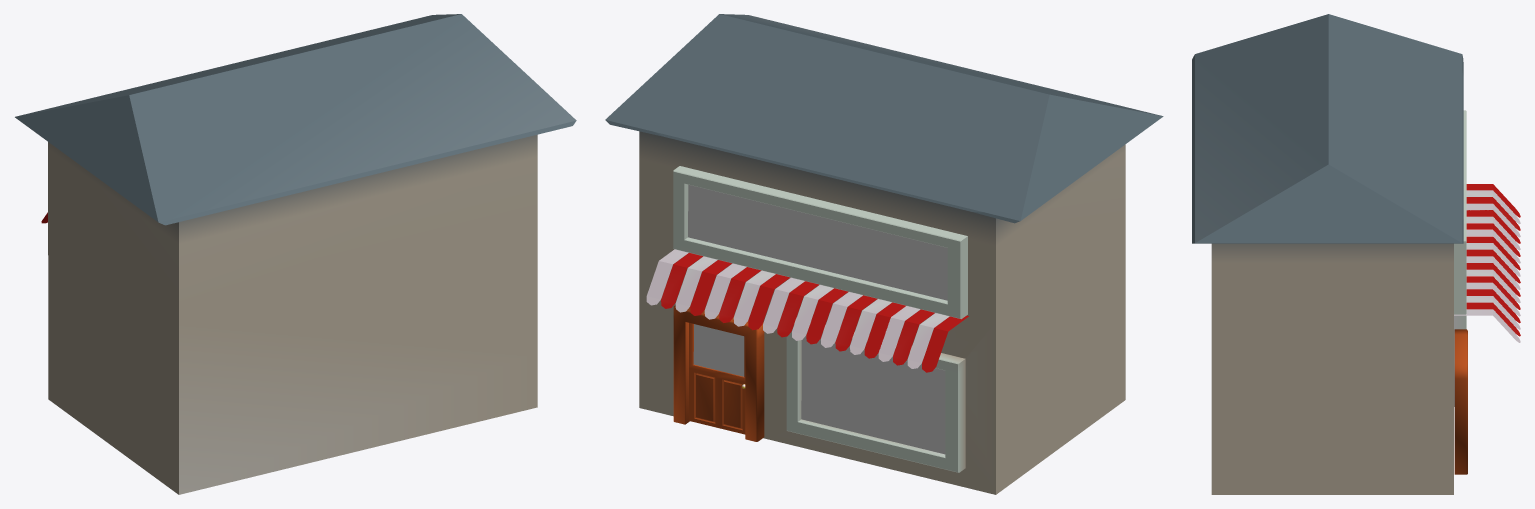
File: shop.fbx
3 views of the same model, side by side, from view 1: azimuth 30°, elevation 25°; view 2: azimuth 150°, elevation 25°; view 3: azimuth 270°, elevation 25° (orthographic). The views are drawn at different scales.
Parts seen in each view (by area): view 1: Cylinder.008; view 2: Cylinder.008, Plane.002, Sphere, Cube; view 3: Cylinder.008, Sphere.
Part boxes in pixels (box(x1,y1,x2,y2)): Cylinder.008: box(15, 14, 576, 494); Cylinder.008: box(605, 14, 1163, 494); Plane.002: box(688, 184, 947, 454); Sphere: box(673, 305, 764, 441); Cube: box(689, 323, 745, 434); Cylinder.008: box(1192, 14, 1520, 494); Sphere: box(1454, 329, 1467, 474).
Size of the model in its own units: 846 by 677 by 621.
